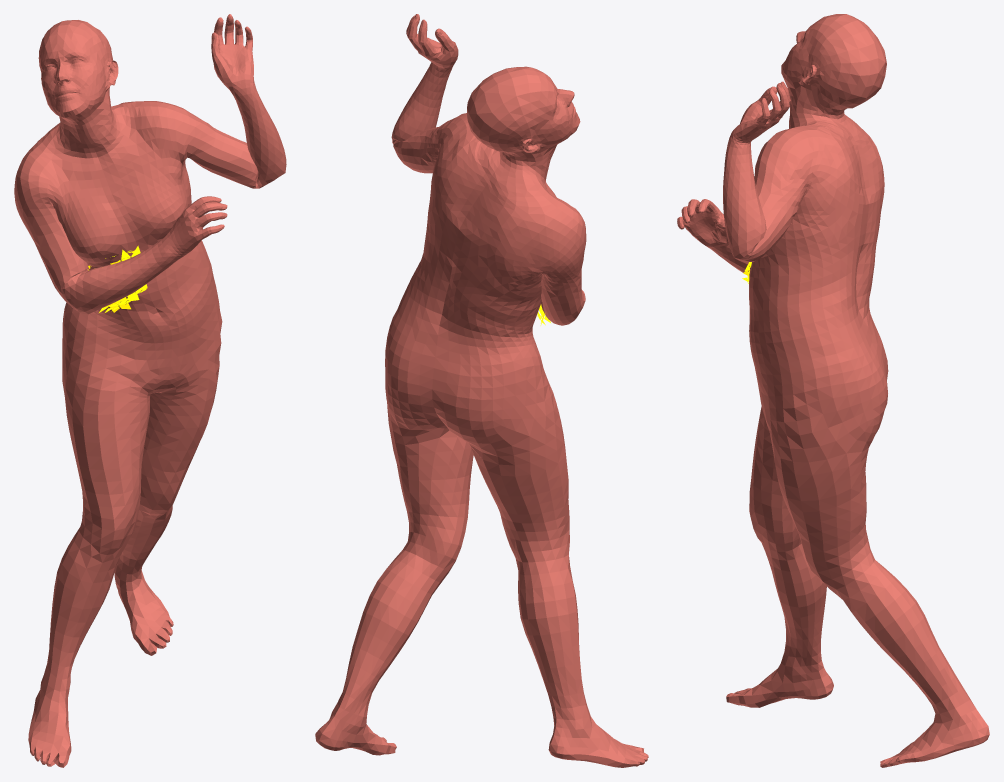
The model's file is hwc_collision_06.glb.
The picture shows the model from 3 angles, left to right: view 1: azimuth 30°, elevation 25°; view 2: azimuth 150°, elevation 25°; view 3: azimuth 270°, elevation 25°; orthographic projection. The views are drawn at different scales.
Visible parts, largest first — view 1: hwc_collision, collision_marker; view 2: hwc_collision; view 3: hwc_collision.
Part boxes in pixels (x1,y1,x2,y2): hwc_collision: [14, 14, 286, 767]; collision_marker: [87, 245, 147, 312]; hwc_collision: [315, 14, 648, 767]; hwc_collision: [677, 14, 989, 767].
Size of the model in its own units: 0.6269 by 1.68 by 0.6627.
